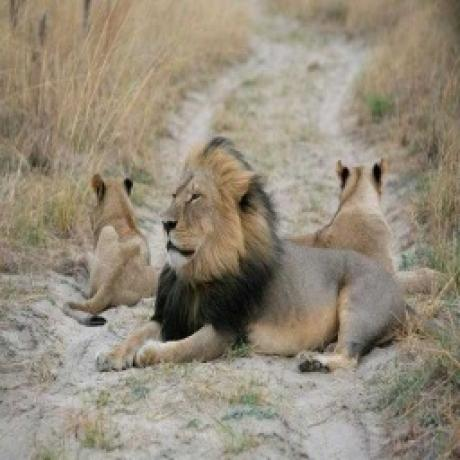Lion: (97, 137, 409, 379), (284, 154, 444, 296), (52, 174, 154, 335)
